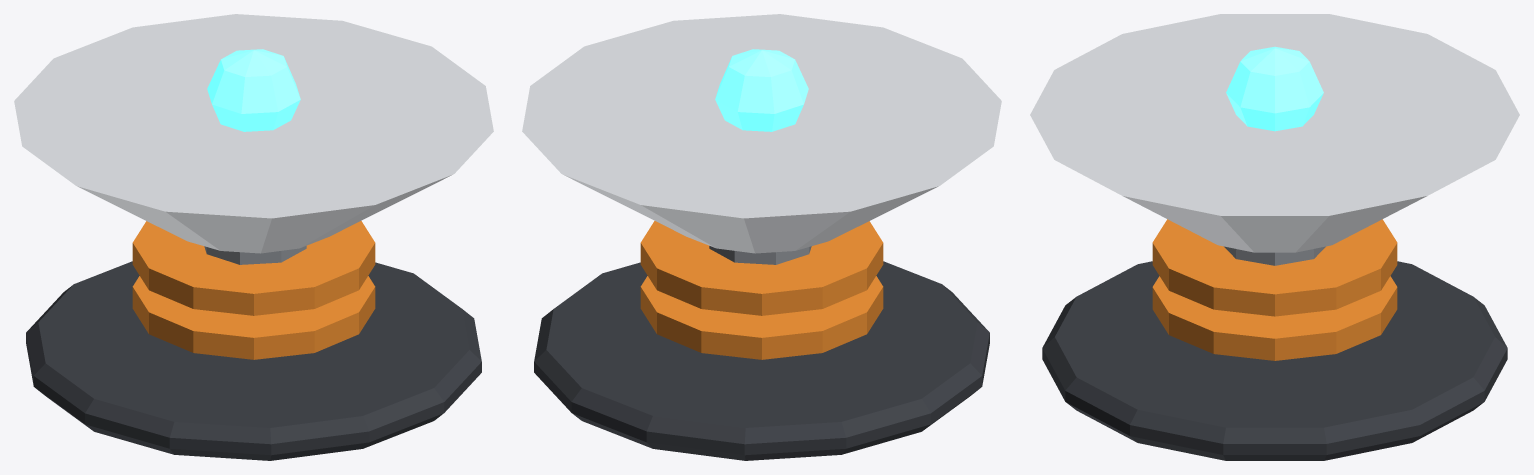
The model's file is scrap_magnet_large.glb.
The picture shows the model from 3 angles, left to right: view 1: azimuth 30°, elevation 25°; view 2: azimuth 150°, elevation 25°; view 3: azimuth 270°, elevation 25°; orthographic projection.
Parts seen in each view (by area): view 1: scrap_magnet_large; view 2: scrap_magnet_large; view 3: scrap_magnet_large.
Boxes of the visible parts, x1,y1,x2,y2 form: scrap_magnet_large: (14, 14, 493, 460); scrap_magnet_large: (522, 14, 1001, 460); scrap_magnet_large: (1030, 14, 1519, 460).
Size of the model in its own units: 0.7799 by 0.58 by 0.8.
